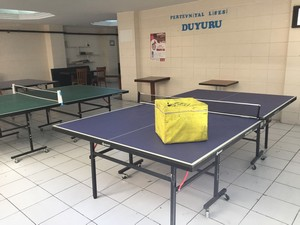cube: (152, 97, 211, 141)
